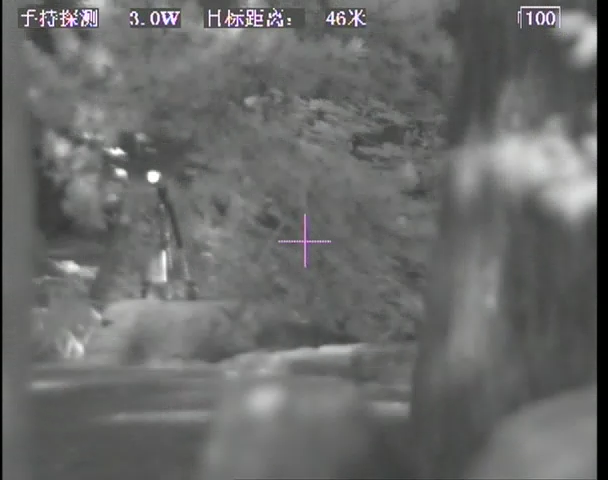my: (146, 168, 162, 183)
